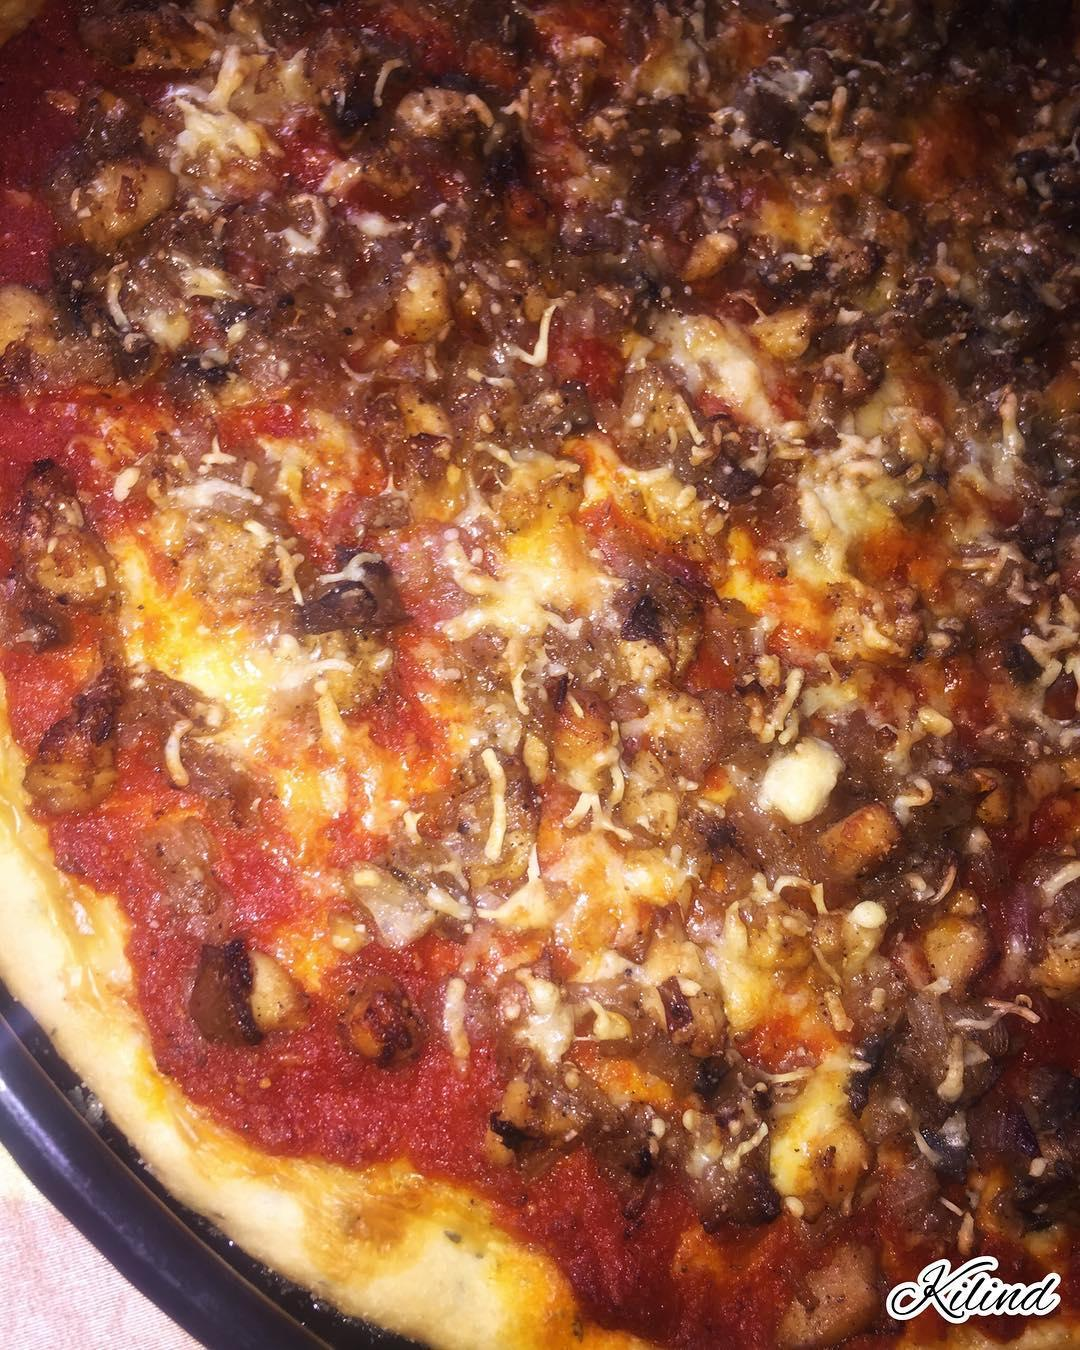Mushroom: (1, 223, 173, 396), (903, 1058, 1080, 1222), (651, 1024, 780, 1223), (828, 966, 1032, 1092), (721, 796, 914, 921), (35, 82, 183, 239), (0, 438, 122, 612), (777, 1022, 886, 1216), (959, 213, 1080, 385), (569, 561, 704, 705), (31, 649, 134, 827), (180, 922, 318, 1050), (949, 724, 1080, 831), (474, 1070, 593, 1182), (289, 552, 419, 655), (377, 210, 457, 345)
Pizza: (0, 0, 1080, 1350)
